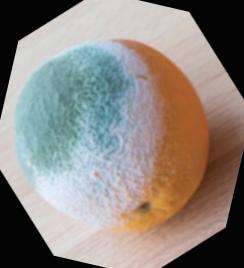Orange Rotten: (0, 5, 237, 254)
